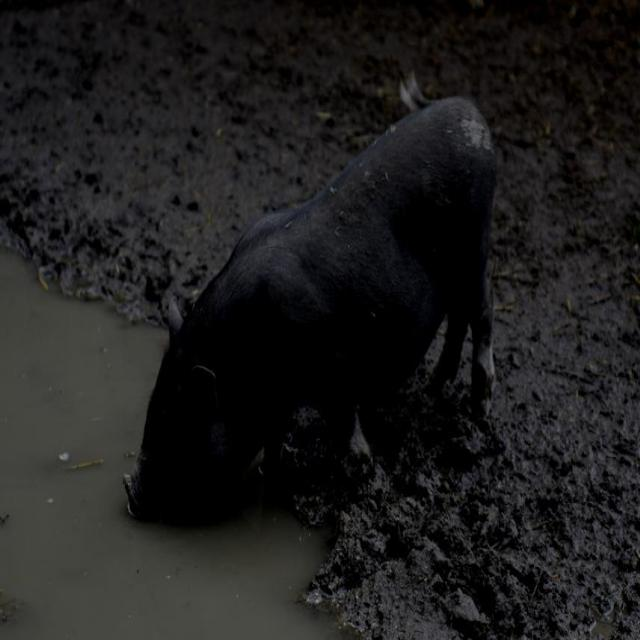pig: (125, 98, 495, 521)
